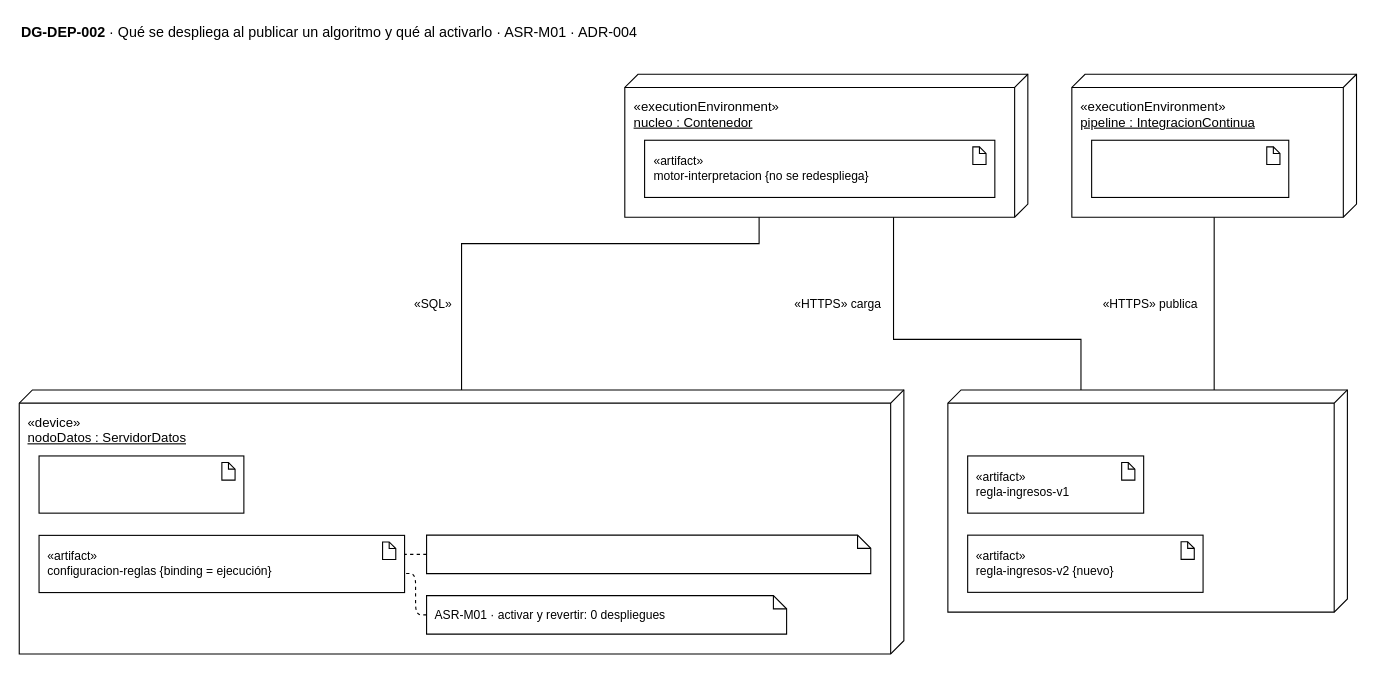
The diagram is 1376 pixels wide and 673 high, and some of its shapes have lost their labels. Here are the shapes that lost their labels. From the top down, the box of each, then its label:
(1091, 139, 1289, 197): «artifact» banco-pruebas-reglas
(38, 455, 244, 513): «artifact» bitacora-activaciones
(947, 389, 1347, 612): «device» repositorioArtefactos : RepositorioArtefactos
(425, 534, 871, 574): «tactic» {id = MOD-09, variante = ejecución} · ADR-004
